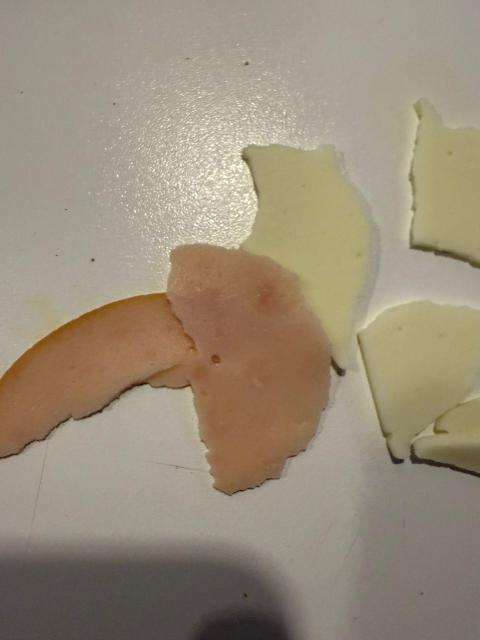Organik: (168, 252, 348, 484), (0, 293, 202, 460), (241, 155, 399, 359), (368, 308, 480, 477), (385, 97, 480, 276)
